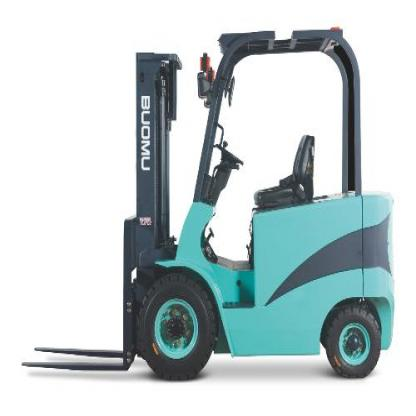forklift: (19, 25, 396, 382)
